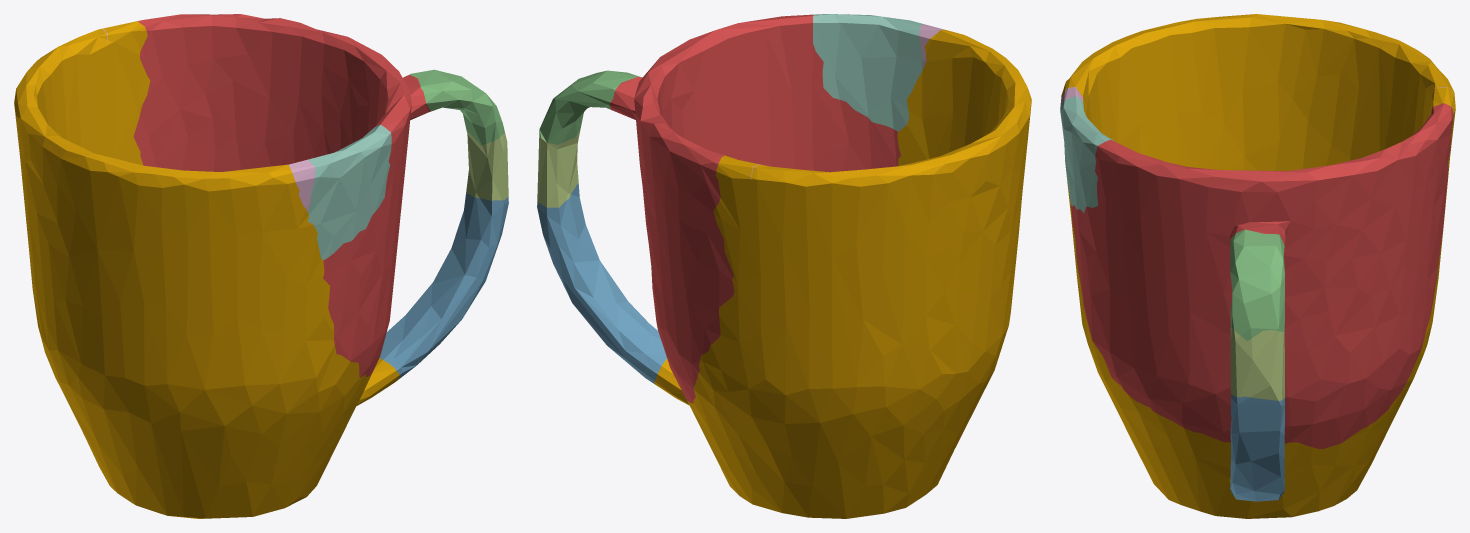
File: fractured_62_8pcs.glb
3 views of the same model, side by side, from view 1: azimuth 30°, elevation 25°; view 2: azimuth 150°, elevation 25°; view 3: azimuth 270°, elevation 25° (orthographic).
Visible parts, largest first — view 1: piece_0.obj, piece_1.obj, piece_2.obj, piece_4.obj, piece_3.obj, piece_5.obj, piece_6.obj; view 2: piece_0.obj, piece_1.obj, piece_4.obj, piece_2.obj, piece_3.obj, piece_5.obj; view 3: piece_1.obj, piece_0.obj, piece_2.obj, piece_3.obj, piece_5.obj, piece_4.obj.
Part boxes in pixels (x1,y1,x2,y2): piece_0.obj: (14,21,399,518); piece_1.obj: (133,14,430,377); piece_2.obj: (379,193,508,378); piece_4.obj: (308,124,391,260); piece_3.obj: (409,69,504,145); piece_5.obj: (466,130,508,200); piece_6.obj: (289,159,315,211); piece_0.obj: (654,30,1031,518); piece_1.obj: (609,14,900,403); piece_4.obj: (813,14,924,131); piece_2.obj: (537,183,666,383); piece_3.obj: (539,70,640,144); piece_5.obj: (537,129,580,207); piece_1.obj: (1071,103,1453,448); piece_0.obj: (1061,14,1455,518); piece_2.obj: (1230,394,1284,501); piece_3.obj: (1230,229,1284,340); piece_5.obj: (1230,327,1284,400); piece_4.obj: (1060,96,1114,212).
Bounding box in the file's own units: 1 × 0.7973 × 0.7465.
